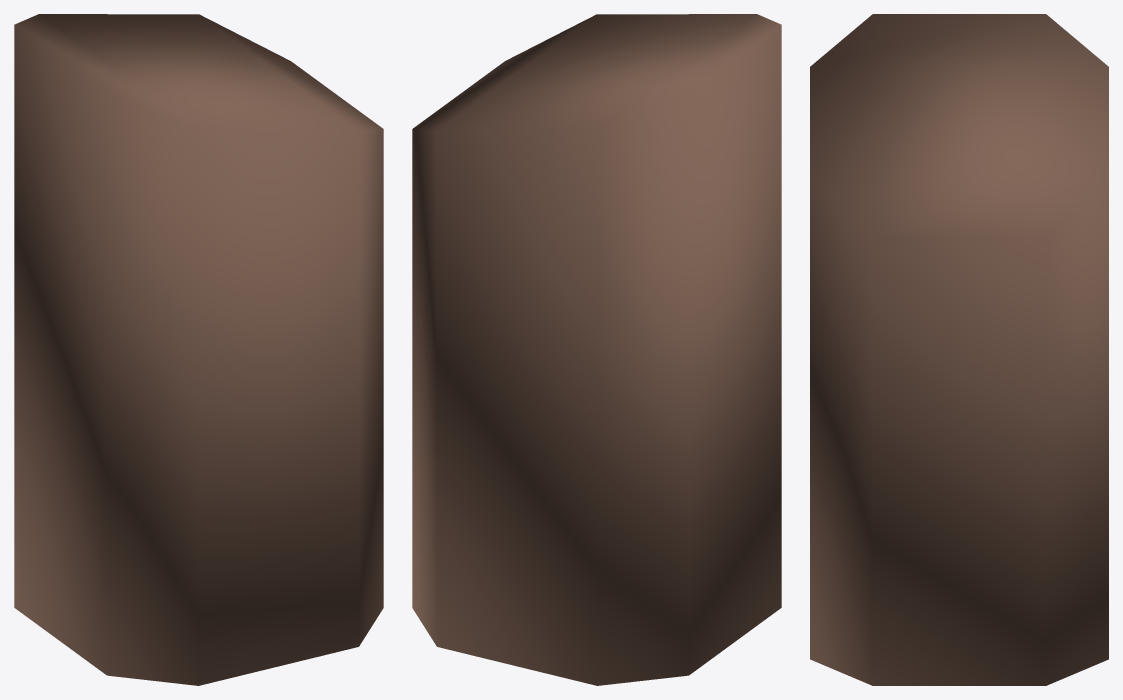
Rendered from PillarBrokenMesh01.fbx.
3 views of the same model, side by side, from view 1: azimuth 30°, elevation 25°; view 2: azimuth 150°, elevation 25°; view 3: azimuth 270°, elevation 25° (orthographic). The views are drawn at different scales.
Visible parts, largest first — view 1: PillarBroken_low; view 2: PillarBroken_low; view 3: PillarBroken_low.
Boxes of the visible parts, x1=… form: PillarBroken_low: x1=14, y1=14, x2=383, y2=685; PillarBroken_low: x1=412, y1=14, x2=781, y2=685; PillarBroken_low: x1=810, y1=14, x2=1108, y2=685.
Bounding box in the file's own units: 1.26 × 2.53 × 1.26.
